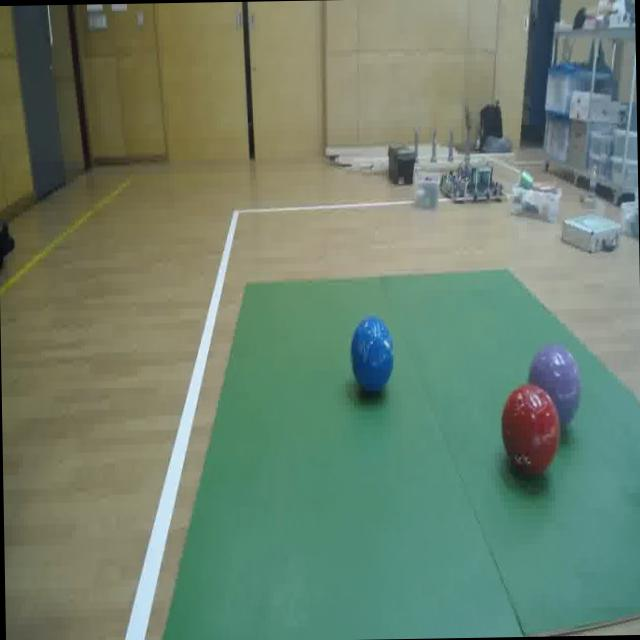blue_ball: (346, 308, 394, 408)
purple_ball: (526, 341, 584, 435)
red_ball: (500, 374, 562, 498)
